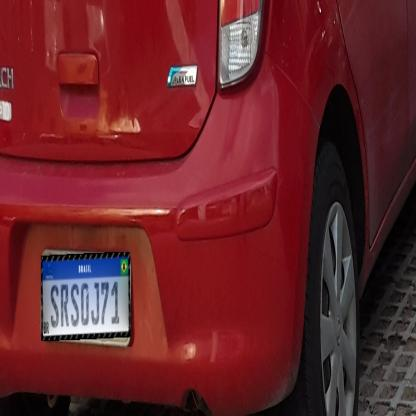PlacaM: (41, 252, 130, 341)
